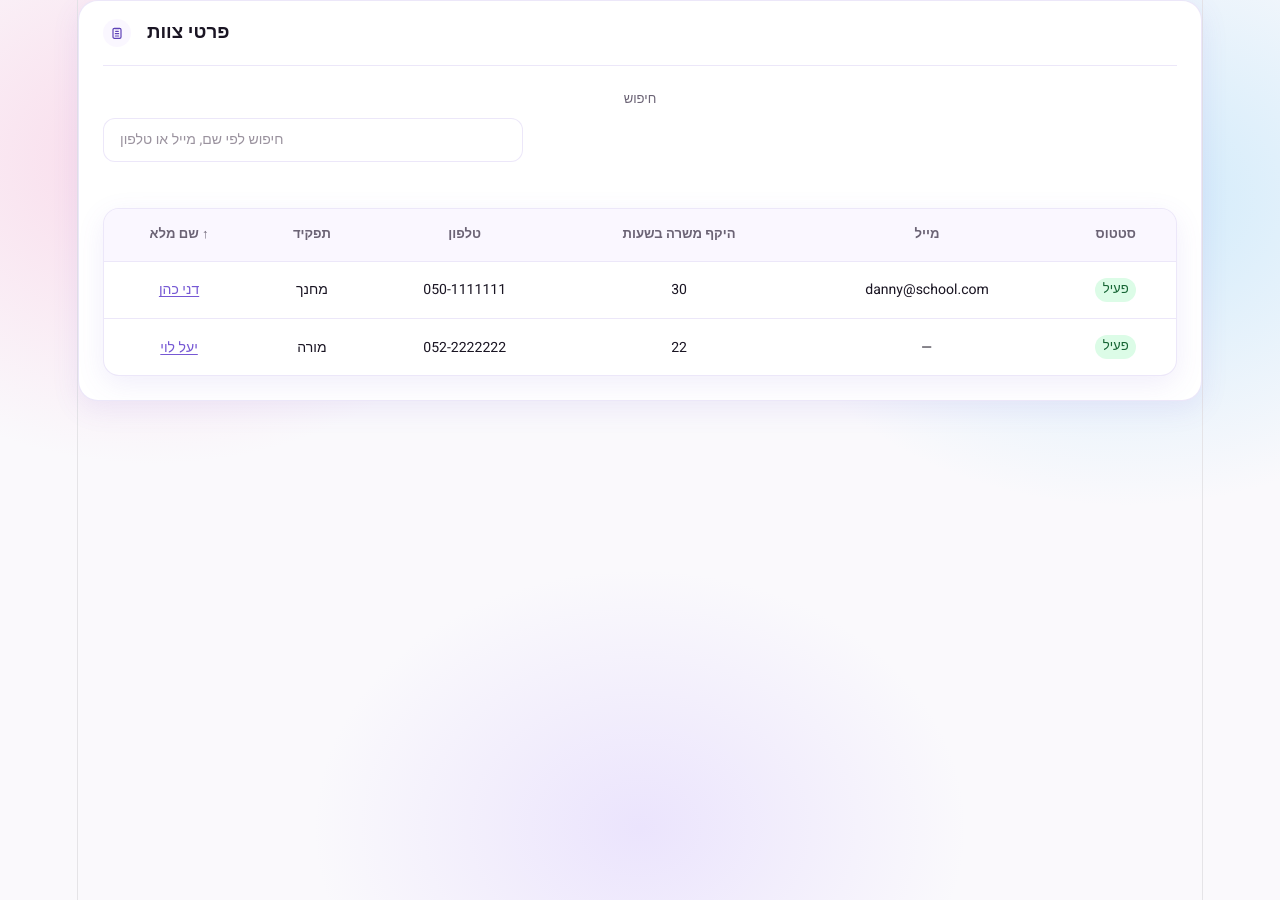
Test: StaffDirectoryPage loading › still searches by name and phone when some emails are null
Check: the button "דני כהן" is shown, box [159, 279, 199, 300]
In the search field with placeholder "חיפוש לפי שם, מייל או טלפון": x=313, y=140 [103, 118, 523, 162], type "יעל"
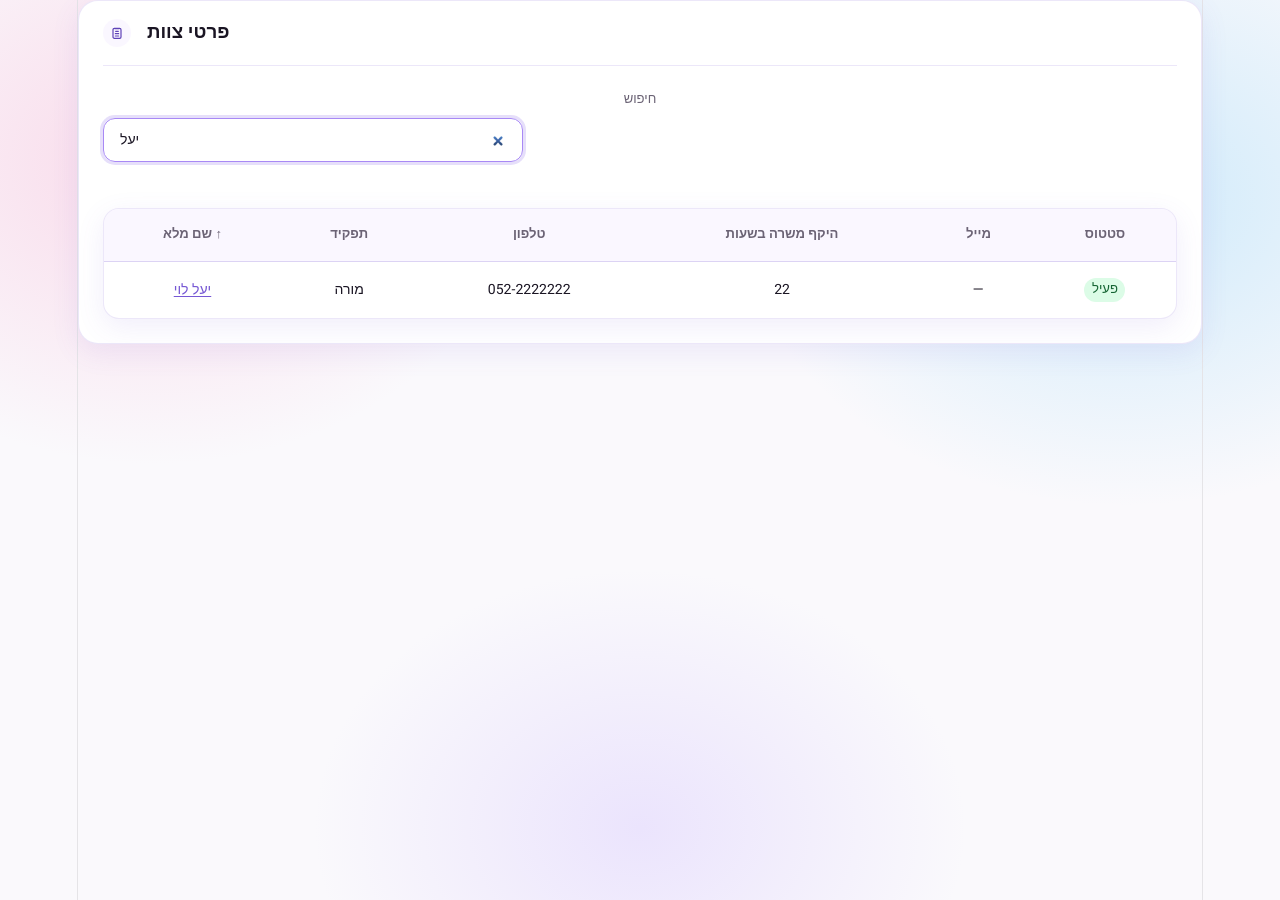
Check: the button "יעל לוי" is shown, box [174, 279, 211, 300]
Check: the button "דני כהן" is gone
